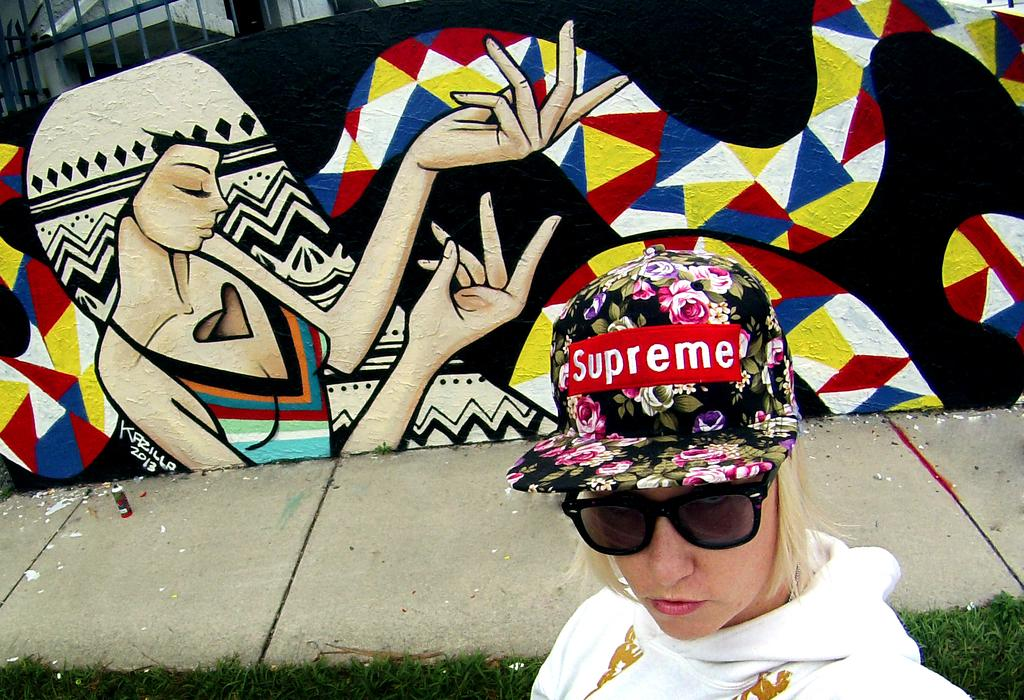Hat: (504, 241, 805, 492)
